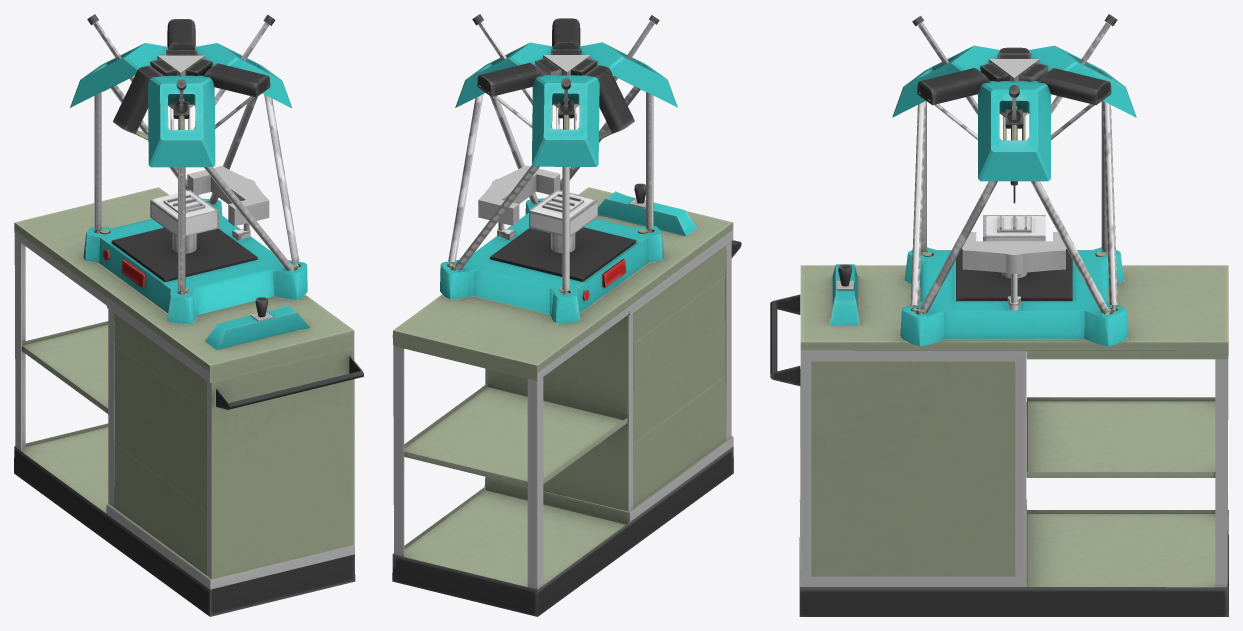
Rendered from Biduiyi.fbx.
The picture shows the model from 3 angles, left to right: view 1: azimuth 30°, elevation 25°; view 2: azimuth 150°, elevation 25°; view 3: azimuth 270°, elevation 25°; orthographic projection. The views are drawn at different scales.
Visible parts, largest first — view 1: biduiyi_M1; view 2: biduiyi_M1; view 3: biduiyi_M1.
Part boxes in pixels (left/top/right/bottom): biduiyi_M1: left=14, top=14, right=363, bottom=616; biduiyi_M1: left=392, top=14, right=741, bottom=616; biduiyi_M1: left=770, top=14, right=1228, bottom=616.
Size of the model in its own units: 61.95 by 174 by 134.
